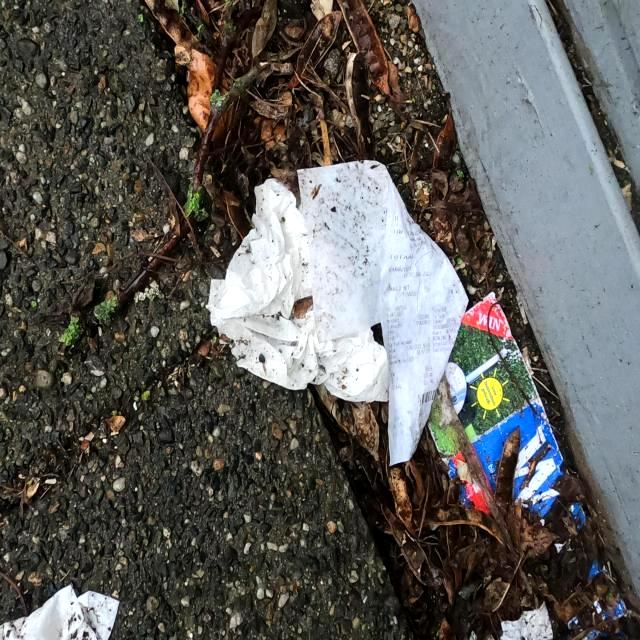Paper: (295, 152, 471, 472)
